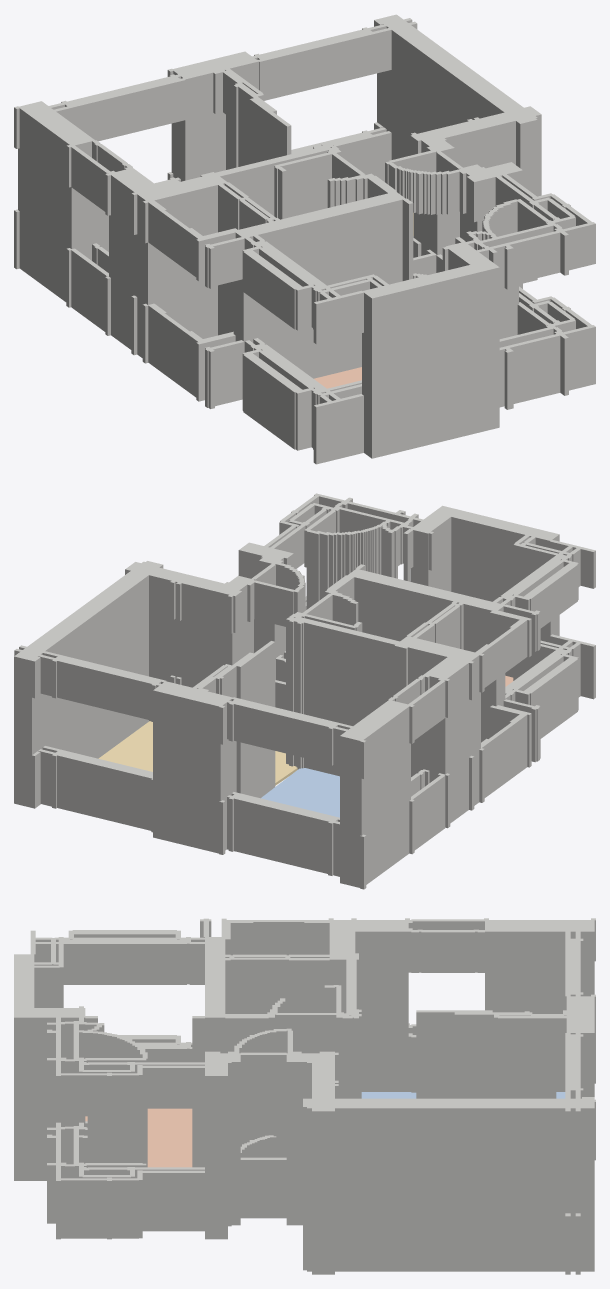
The picture shows the model from 3 angles, top to bottom: view 1: azimuth 30°, elevation 25°; view 2: azimuth 150°, elevation 25°; view 3: azimuth 270°, elevation 25°; orthographic projection. The views are drawn at different scales.
Parts seen in each view (by area): view 1: walls, room:kitchen:4; view 2: walls, room:bedroom:0, room:living:1; view 3: walls, room:kitchen:4.
Boxes of the visible parts, x1=… form: walls: x1=14, y1=14, x2=595, y2=464; room:kitchen:4: x1=314, y1=367, x2=361, y2=388; walls: x1=14, y1=493, x2=595, y2=889; room:bedroom:0: x1=261, y1=768, x2=339, y2=817; room:living:1: x1=98, y1=721, x2=297, y2=785; walls: x1=14, y1=918, x2=595, y2=1274; room:kitchen:4: x1=85, y1=1108, x2=192, y2=1167.
Size of the model in its own units: 7.1 by 2.8 by 9.04.
